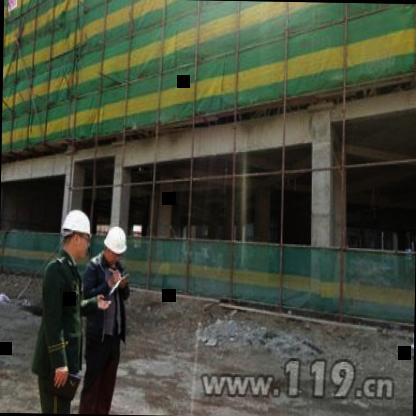helmet: (59, 205, 95, 260), (101, 222, 125, 265)
